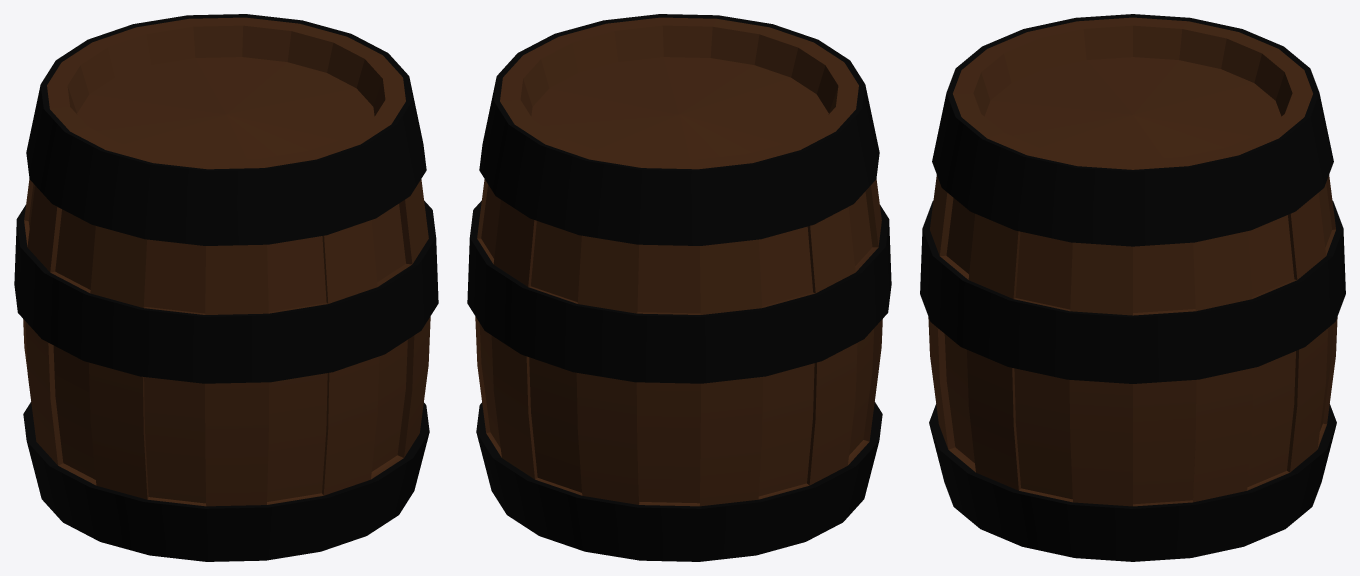
Rendered from BarrilV2.fbx.
3 views of the same model, side by side, from view 1: azimuth 30°, elevation 25°; view 2: azimuth 150°, elevation 25°; view 3: azimuth 270°, elevation 25° (orthographic).
Visible parts, largest first — view 1: pCylinder1; view 2: pCylinder1; view 3: pCylinder1.
Part boxes in pixels (x1=…): pCylinder1: x1=14, y1=14, x2=438, y2=561; pCylinder1: x1=467, y1=14, x2=891, y2=561; pCylinder1: x1=920, y1=14, x2=1345, y2=561.
Bounding box in the file's own units: 4.76 × 4.8 × 4.76.
